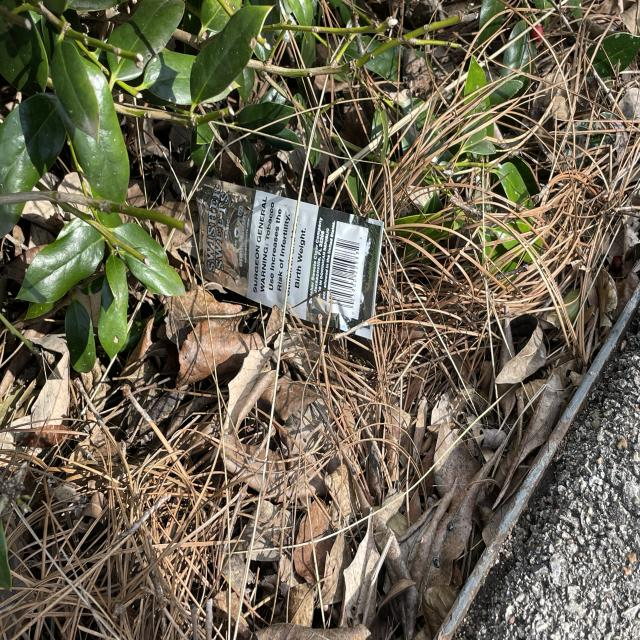plastic: (192, 184, 385, 343)
trash-zQNu: (190, 182, 386, 342)
